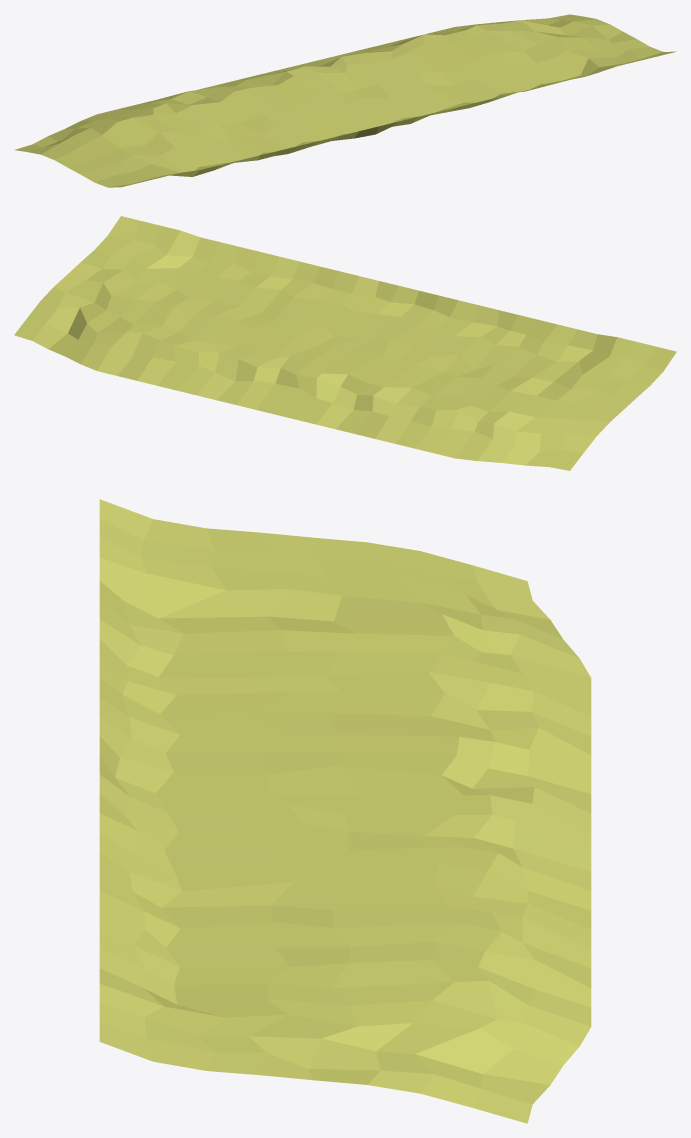
Rendered from Beach_2.fbx.
3 views of the same model, one above another, from view 1: azimuth 30°, elevation 25°; view 2: azimuth 150°, elevation 25°; view 3: azimuth 270°, elevation 25° (orthographic). The views are drawn at different scales.
Visible parts, largest first — view 1: Beach; view 2: Beach; view 3: Beach.
Boxes of the visible parts, x1,y1,x2,y2 form: Beach: [15, 14, 676, 187]; Beach: [14, 216, 676, 470]; Beach: [99, 499, 591, 1123].
Size of the model in its own units: 3000 by 211 by 1149.
